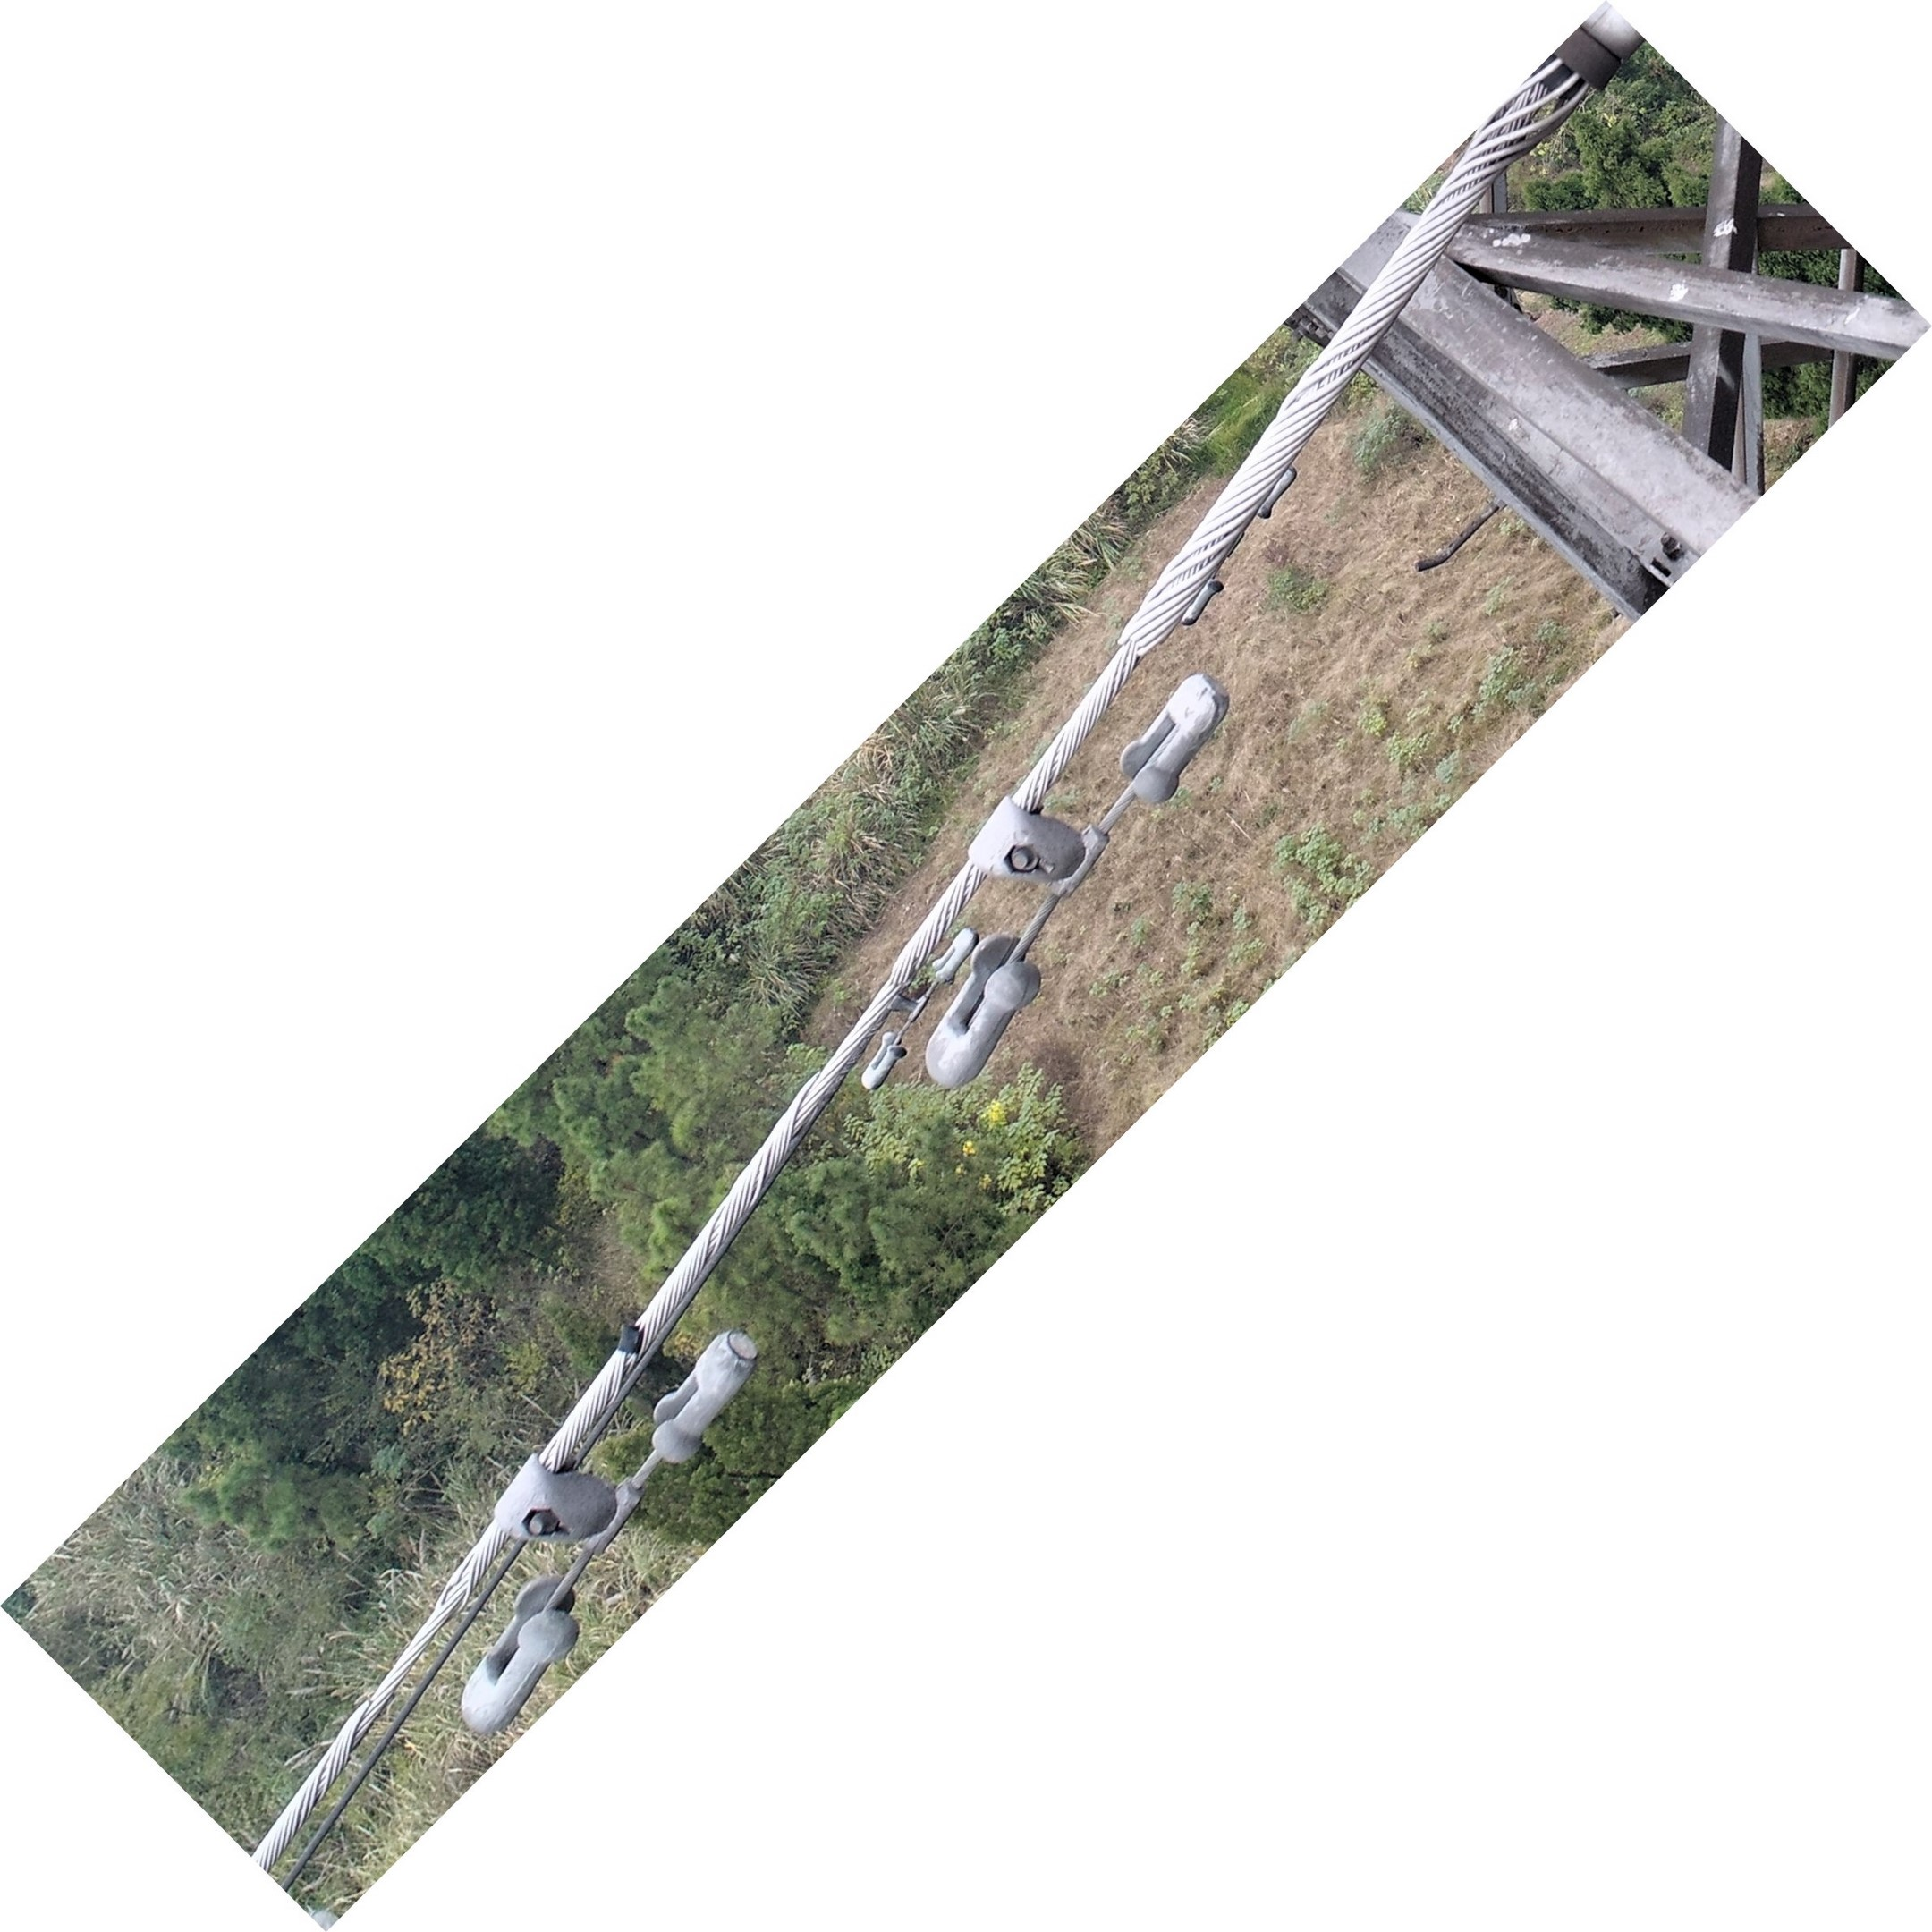Shockproof hammer: (428, 1284, 778, 1757), (885, 660, 1246, 1116)
